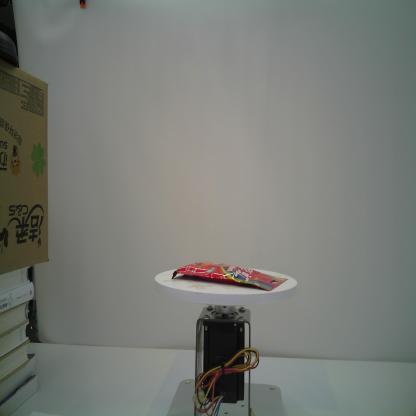Candy: (171, 261, 289, 292)
